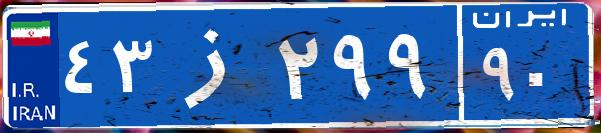0: (525, 38, 570, 115)
2: (273, 28, 330, 110)
3: (110, 28, 158, 105)
4: (57, 26, 110, 107)
9: (385, 28, 445, 110), (330, 28, 385, 110), (475, 38, 525, 113)
ز: (158, 15, 273, 115)
